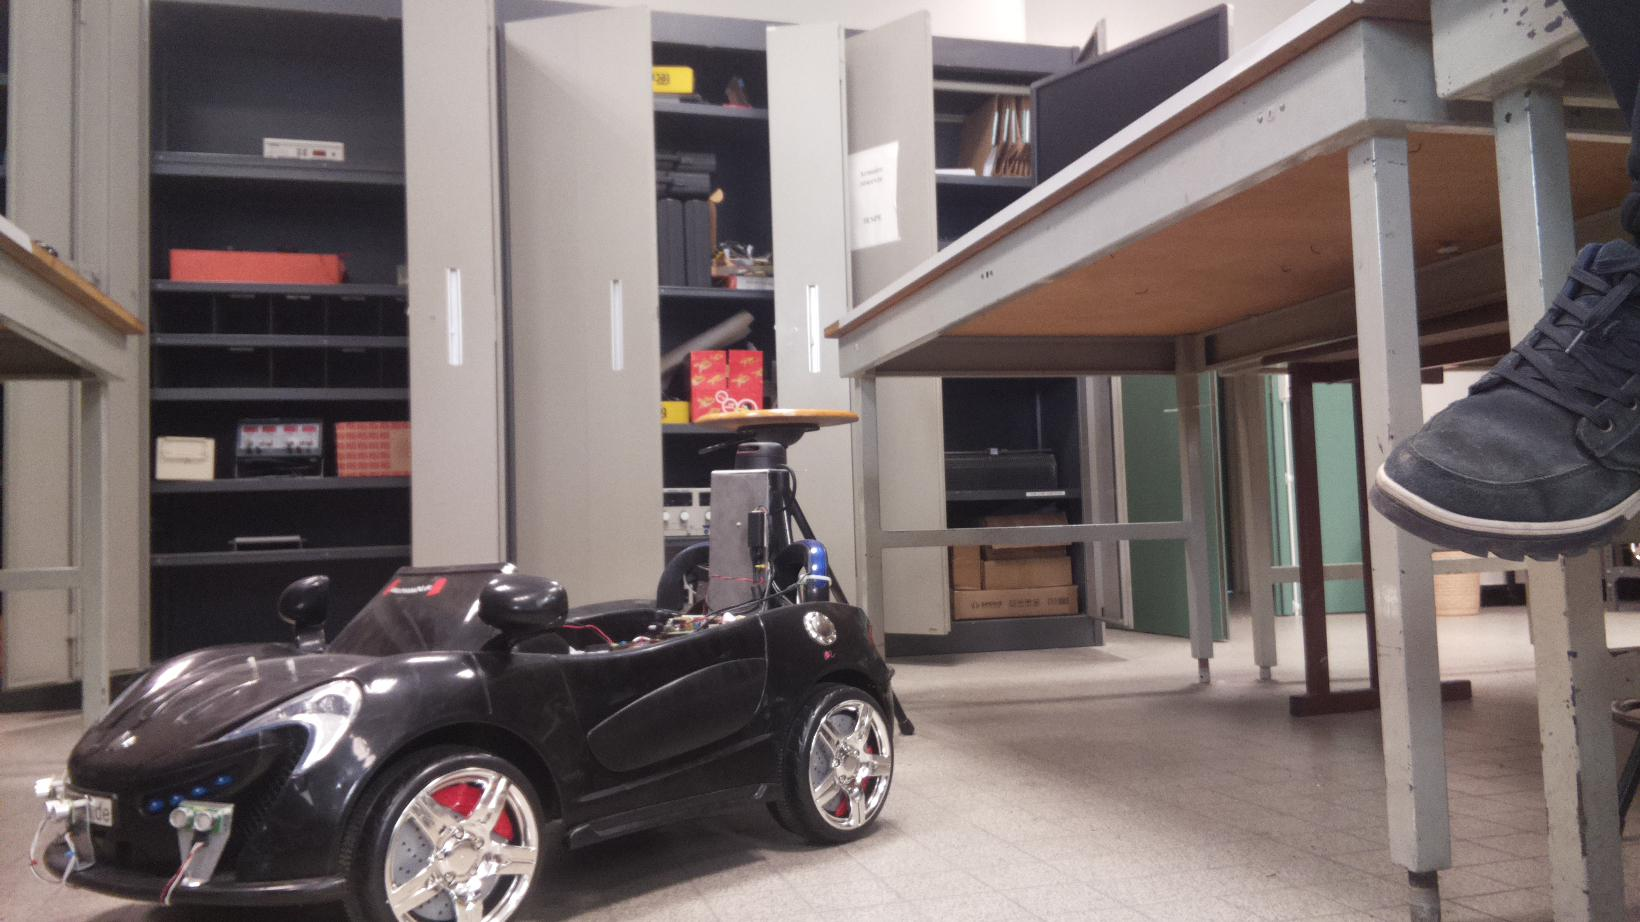big: (25, 435, 904, 922)
